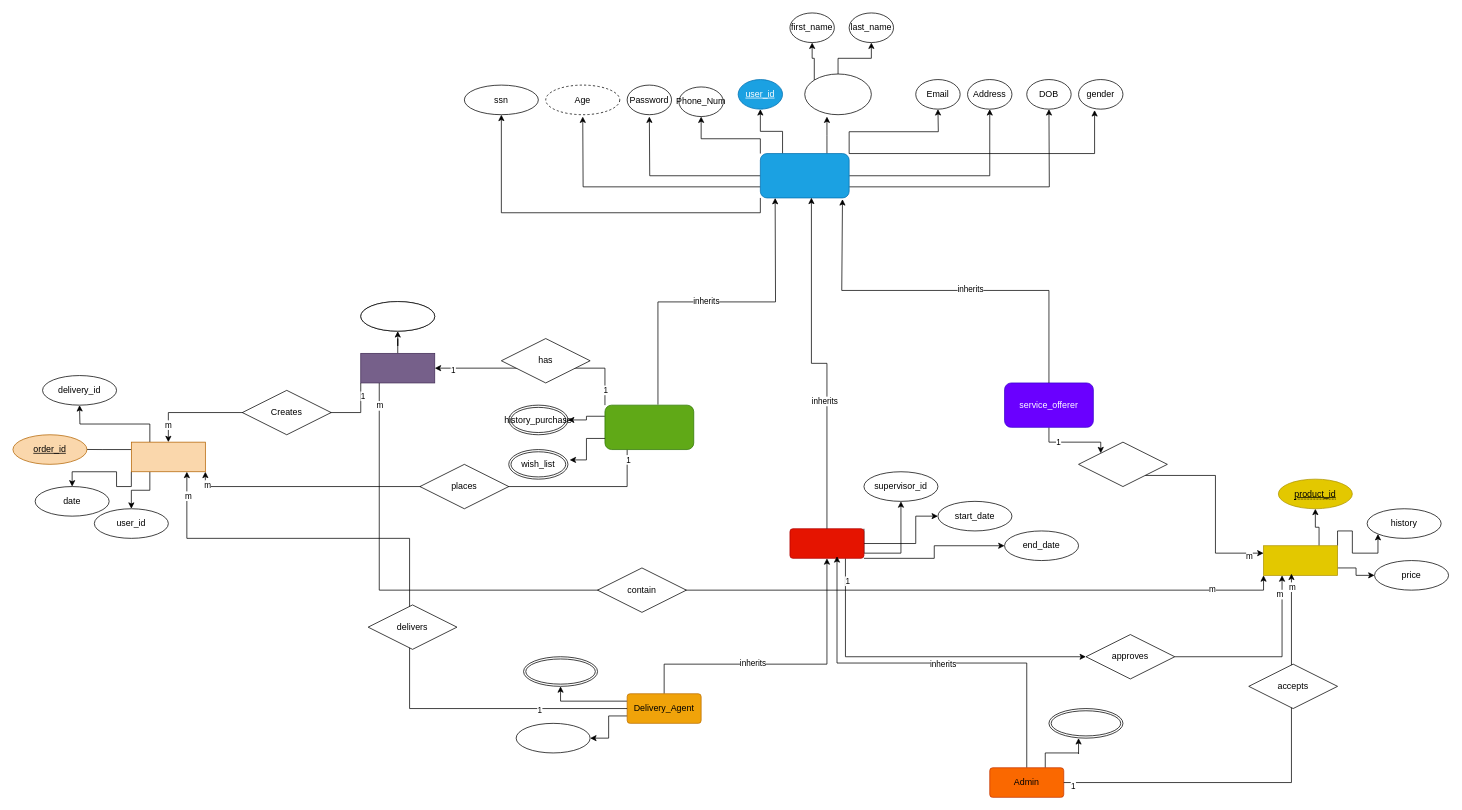
Image size: 1462x810. Some labels were removed from this diagram. Here are the shapes that lost their labels. From the top down, the centre of each, then its label:
At (837,94): "Name".
At (804,175): "person".
At (397,316): "customer_id".
At (397,368): "shop_cart".
At (649,427): "customer".
At (168,456): "order".
At (1122,464): "offers".
At (826,543): "employee".
At (1300,560): "product".
At (560,671): "history_deliveries".
At (552,738): "delviering_now".
At (1085,723): "products_accept".
